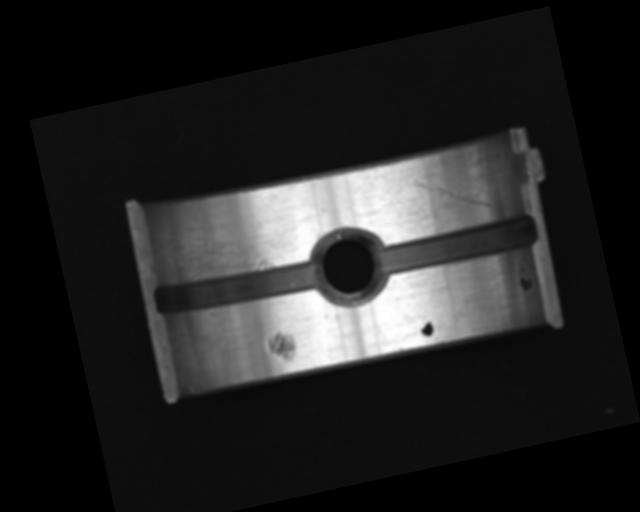blot: (515, 263, 534, 294), (418, 317, 436, 339)
bruise: (265, 328, 298, 364)
gap: (150, 250, 325, 324), (374, 212, 538, 279)
hole: (309, 219, 394, 312)
nick: (410, 162, 494, 224)
scratch: (152, 188, 317, 293)
